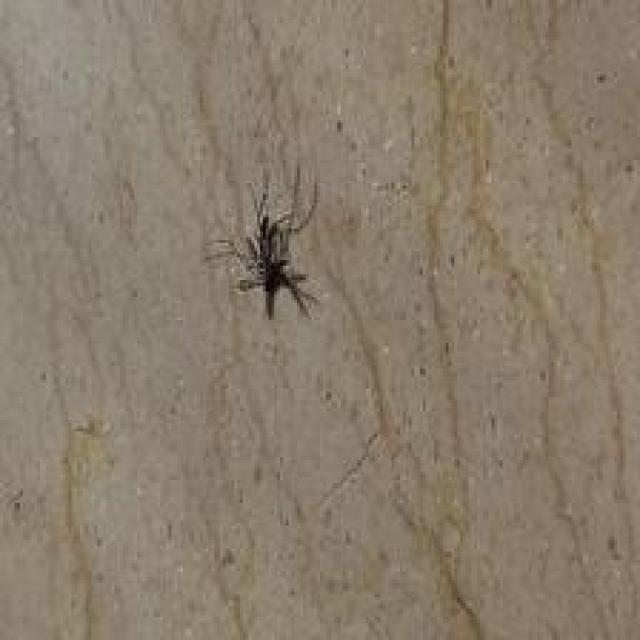Aedes albopictus: (203, 162, 323, 322)
